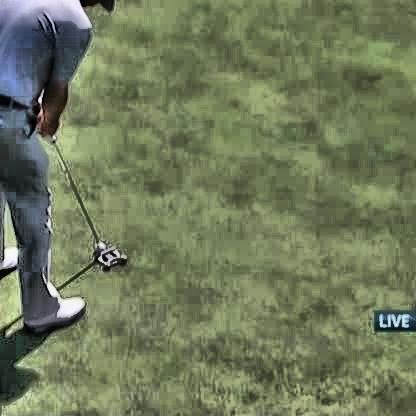golfball: (92, 242, 105, 249)
